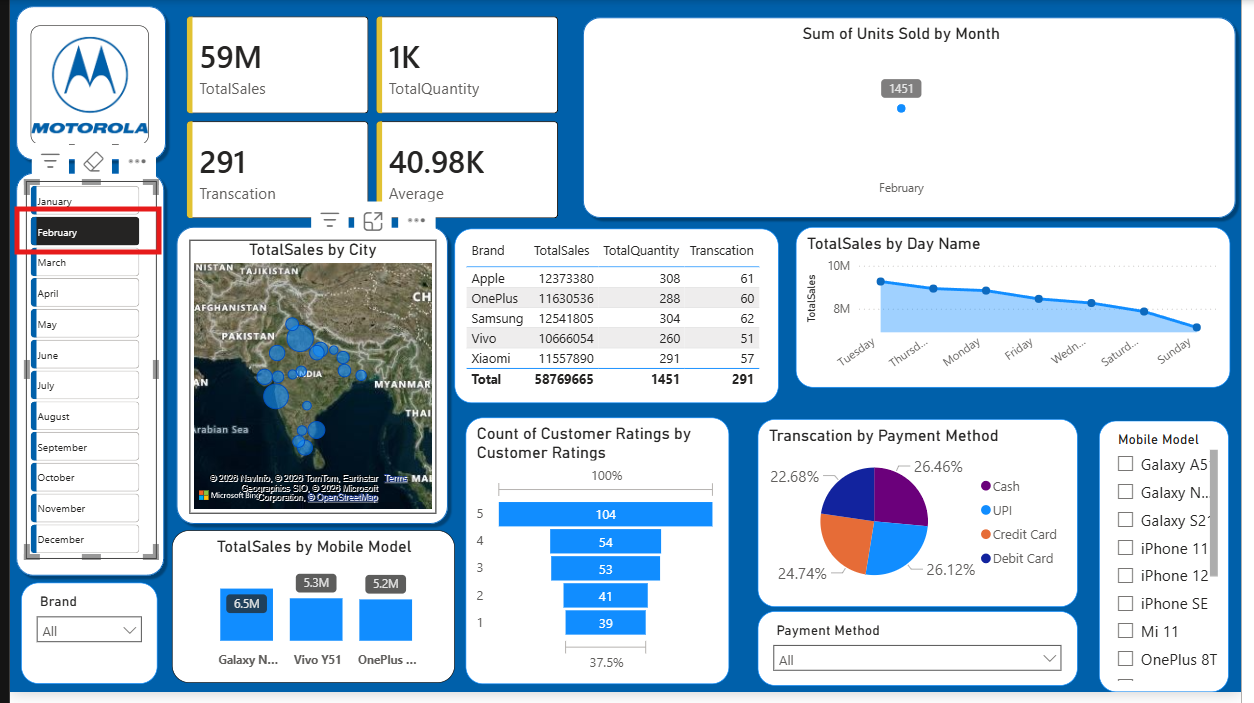

What the dashboard file says about the page in this screenshot:
{"tool":"powerbi","page":{"name":"Page 1","canvas":[1280,720],"ordinal":0},"visuals":[{"type":"shape","box":[0,0,168.6,172.9],"z":0},{"type":"image","box":[21.4,25.7,122.9,124.3],"z":1000},{"type":"shape","box":[166.7,230,295,321.7],"z":2000},{"type":"shape","box":[0,173.3,166.7,431.7],"z":3000},{"type":"advancedSlicerVisual","fields":{"Values":["MobileSalesData.Date.Variation.Date Hierarchy.Month"]},"box":[16.7,188.3,136.7,393.3],"z":4000},{"type":"cardVisual","fields":{"Data":["MobileSalesData.TotalSales","MobileSalesData.TotalQuantity","MobileSalesData.Transcation","MobileSalesData.Average"]},"box":[167.1,0,421.4,245.7],"z":5000},{"type":"map","fields":{"Size":["MobileSalesData.TotalSales"],"Category":["MobileSalesData.City"]},"box":[186.7,250,256.7,285],"z":6000},{"type":"shape","box":[588.6,11.4,691.4,221.4],"z":7000},{"type":"lineChart","fields":{"Y":["Sum(MobileSalesData.Units Sold)"],"Category":["MobileSalesData.Date.Variation.Date Hierarchy.Month","MobileSalesData.Date.Variation.Date Hierarchy.Day"]},"box":[600,25,651.7,190],"z":8000},{"type":"clusteredColumnChart","fields":{"Y":["MobileSalesData.TotalSales"],"Category":["MobileSalesData.Mobile Model"]},"box":[168.6,551.4,294.3,158.6],"z":9000},{"type":"pieChart","fields":{"Category":["MobileSalesData.Payment Method"],"Y":["MobileSalesData.Transcation"]},"box":[777.5,435,332.5,195],"z":10000},{"type":"funnel","fields":{"Category":["MobileSalesData.Customer Ratings"],"Y":["CountNonNull(MobileSalesData.Customer Ratings)"]},"box":[474.3,434.3,274.3,277.1],"z":11000},{"type":"tableEx","fields":{"Values":["MobileSalesData.Brand","MobileSalesData.TotalSales","MobileSalesData.TotalQuantity","MobileSalesData.Transcation"]},"box":[462.9,237.1,337.1,181.4],"z":12000},{"type":"lineChart","fields":{"Category":["MobileSalesData.Day Name"],"Y":["MobileSalesData.TotalSales"]},"box":[817.1,235.7,451.4,167.1],"z":13000},{"type":"slicer","fields":{"Values":["MobileSalesData.Mobile Model"]},"box":[1132.5,437.5,135,282.5],"z":14000},{"type":"slicer","fields":{"Values":["MobileSalesData.Payment Method"]},"box":[777.5,635,332.5,77.5],"z":15000},{"type":"slicer","fields":{"Values":["MobileSalesData.Brand"]},"box":[11.7,605,141.7,105],"z":16000}]}

Visuals, with their boxes in screenshot pixels (x1, y1, x2, y2), scaled from the page's 1280x720 canvas onto the 1254x703 screenshot:
shape: 0,0,165,169
image: 21,25,141,146
shape: 163,225,452,539
shape: 0,169,163,591
advancedSlicerVisual - MobileSalesData.Date.Variation.Date Hierarchy.Month: 16,184,150,568
cardVisual - MobileSalesData.TotalSales x MobileSalesData.TotalQuantity: 164,0,577,240
map - MobileSalesData.TotalSales x MobileSalesData.City: 183,244,434,522
shape: 577,11,1253,227
lineChart - Sum(MobileSalesData.Units Sold) x MobileSalesData.Date.Variation.Date Hierarchy.Month: 588,24,1226,210
clusteredColumnChart - MobileSalesData.TotalSales x MobileSalesData.Mobile Model: 165,538,453,693
pieChart - MobileSalesData.Payment Method x MobileSalesData.Transcation: 762,425,1087,615
funnel - MobileSalesData.Customer Ratings x CountNonNull(MobileSalesData.Customer Ratings): 465,424,733,695
tableEx - MobileSalesData.Brand x MobileSalesData.TotalSales: 453,232,784,409
lineChart - MobileSalesData.Day Name x MobileSalesData.TotalSales: 801,230,1243,393
slicer - MobileSalesData.Mobile Model: 1109,427,1242,702
slicer - MobileSalesData.Payment Method: 762,620,1087,696
slicer - MobileSalesData.Brand: 11,591,150,693
